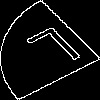L: (25, 25, 92, 78)
